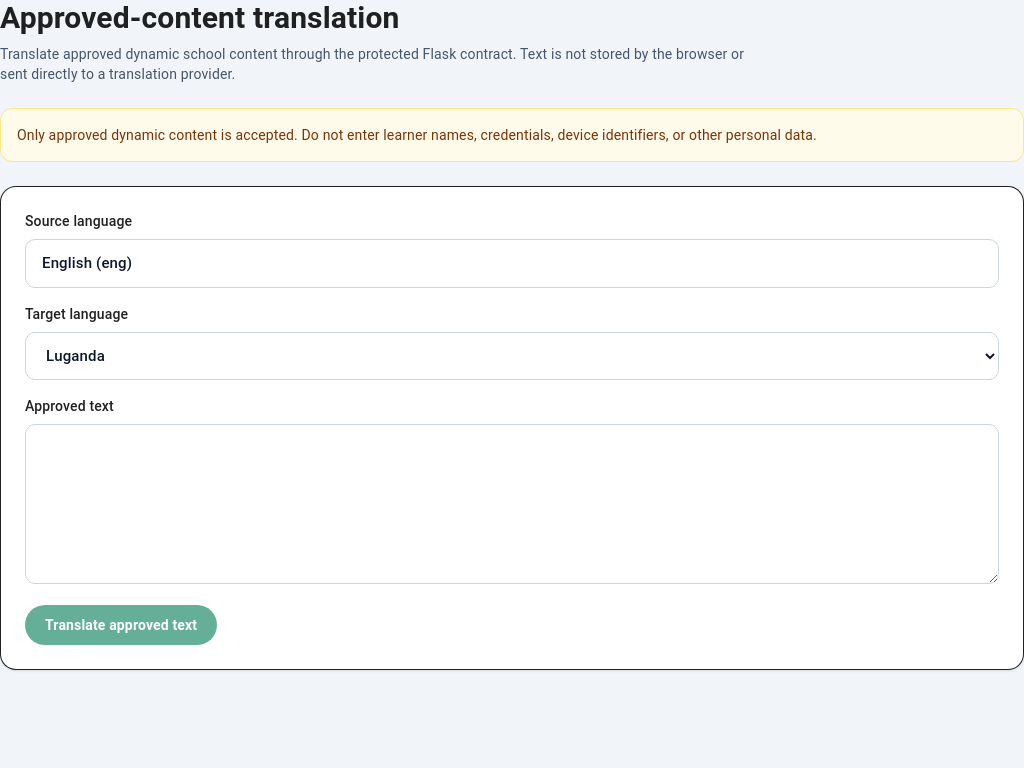
Test case: approved-content translation › submits only approved dynamic content through the Flask service
The image size is (1024, 768).
Type "How are you?" into the text box labelled "Approved text" at (512, 504), box [25,424,999,584]
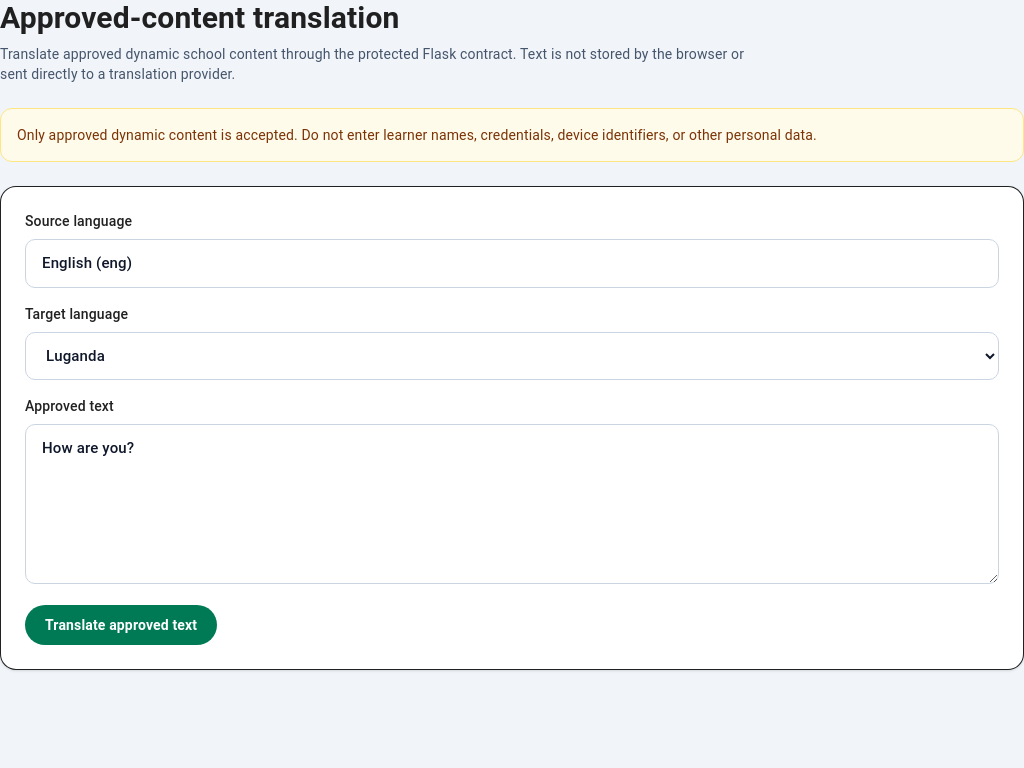
Select "Luganda" in the dropdown labelled "Target language" at (512, 356), box [25,332,999,380]
Click the button "Translate approved text" at (121, 624), box [25,604,217,644]
(page scrolled)
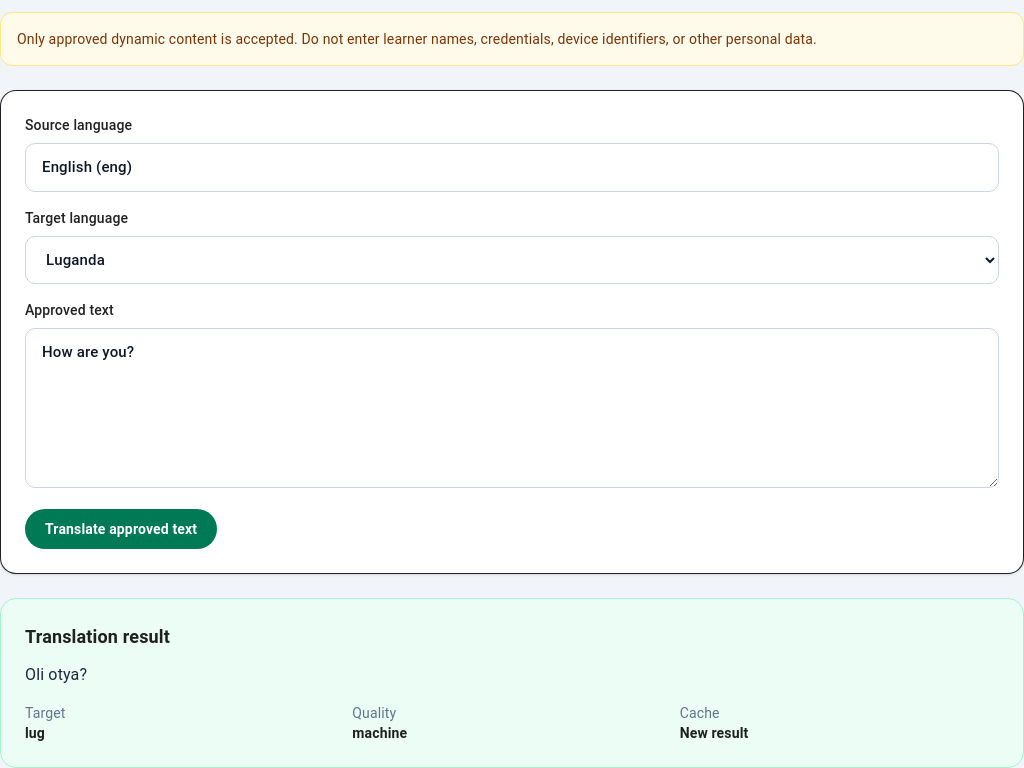
Check: the heading "Translation result" is shown, box [25,626,170,646]
Check: the text "Oli otya?" is shown, box [25,664,87,684]
